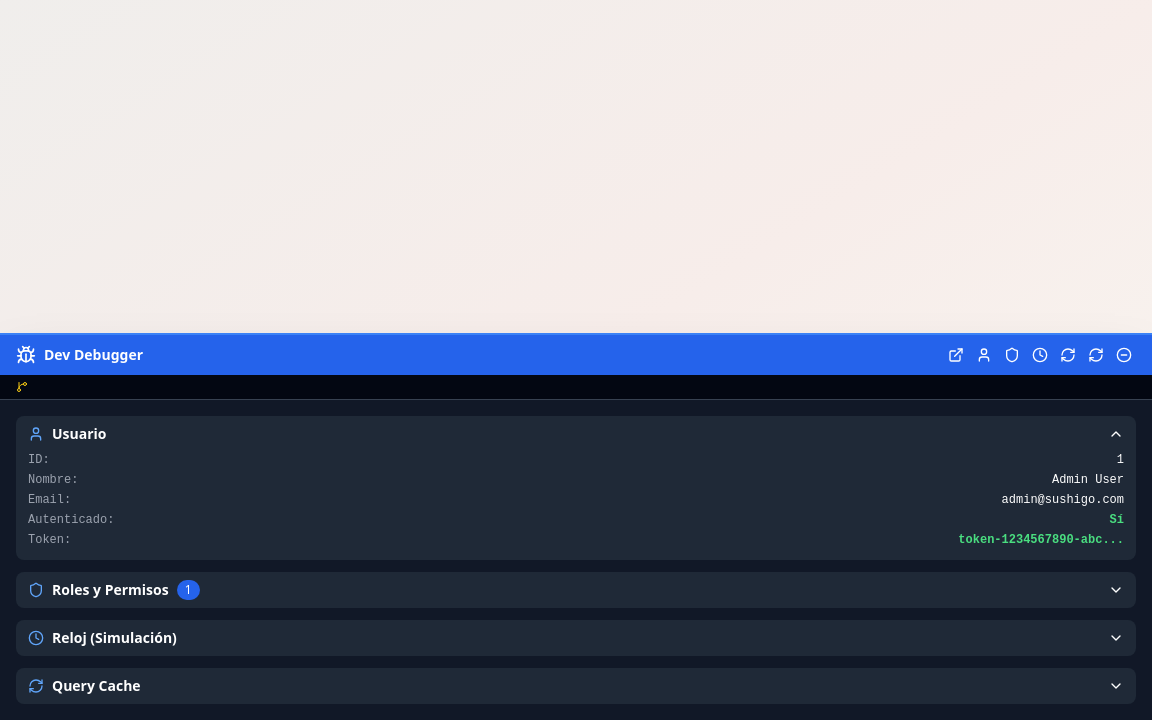
DevDebugger › renders the mobile bottom bar (not the desktop floating panel) when minimized on a mobile viewport
Click the button titled "Minimize debugger": (1124, 355) top-left (1112, 343), bottom-right (1136, 367)
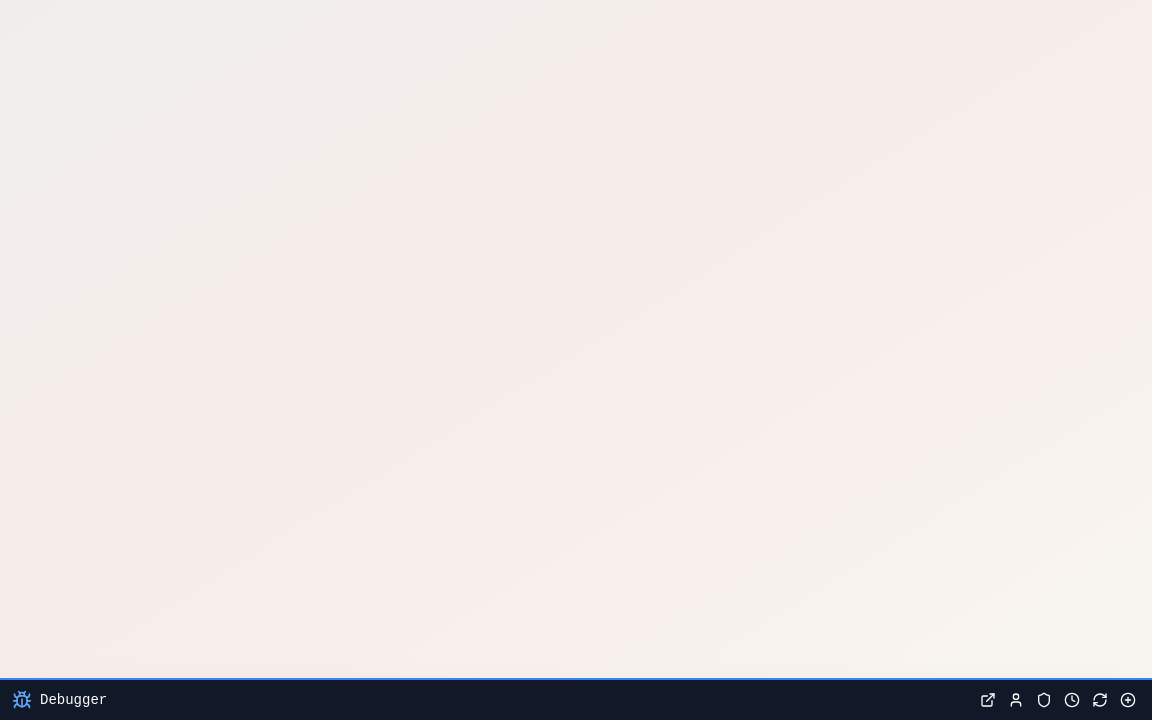
Expected: the number of buttons titled "Expandir debugger" is 2
Click the button titled "Expandir debugger": (60, 700) top-left (12, 690), bottom-right (107, 710)
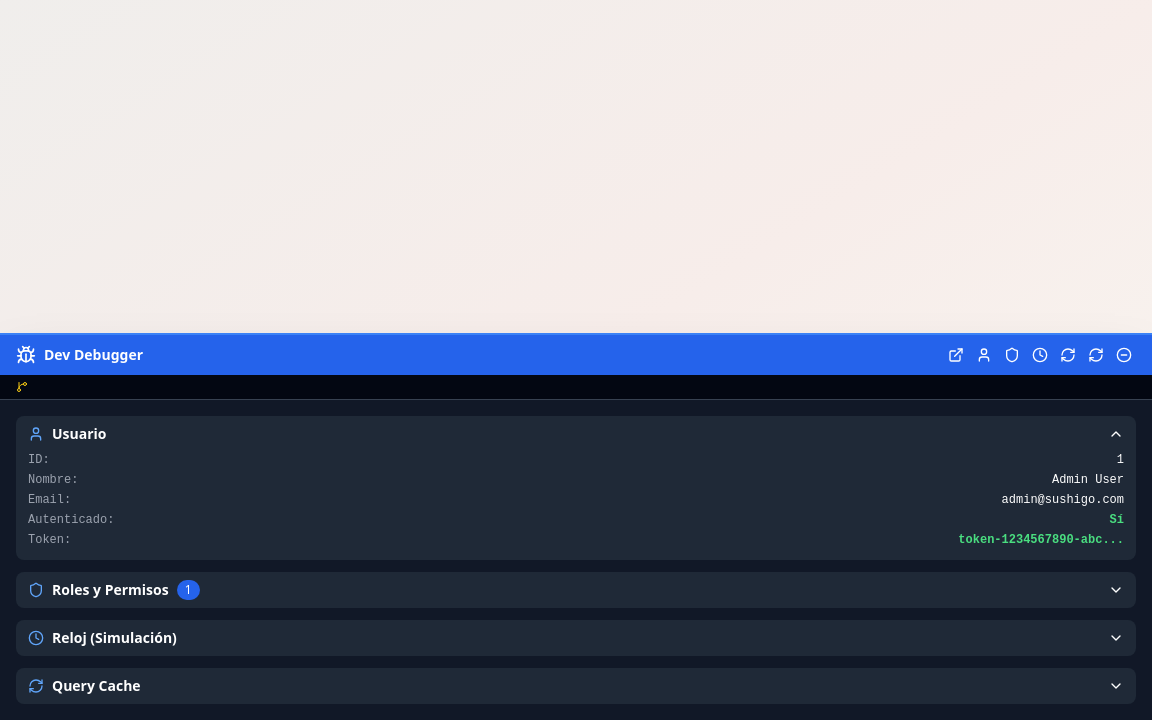
Expected: the text "Dev Debugger" is shown, top-left (44, 345), bottom-right (143, 365)
